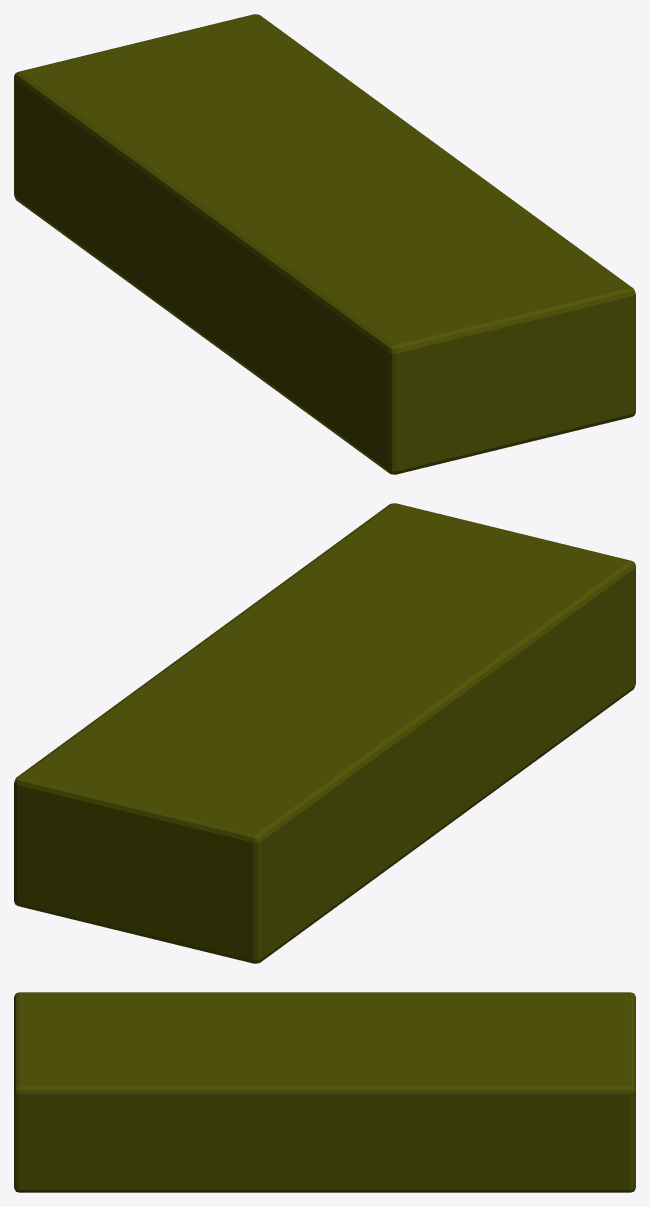
File: Power_Supply_Failed.fbx
3 renders of one model, top to bottom at view 1: azimuth 30°, elevation 25°; view 2: azimuth 150°, elevation 25°; view 3: azimuth 270°, elevation 25°, orthographic. The views are drawn at different scales.
Visible parts, largest first — view 1: Power Supply.001; view 2: Power Supply.001; view 3: Power Supply.001.
Part boxes in pixels (x1,y1,x2,y2): Power Supply.001: [14, 14, 635, 474]; Power Supply.001: [14, 503, 635, 963]; Power Supply.001: [14, 992, 635, 1192].
Size of the model in its own units: 30 by 15 by 80.
